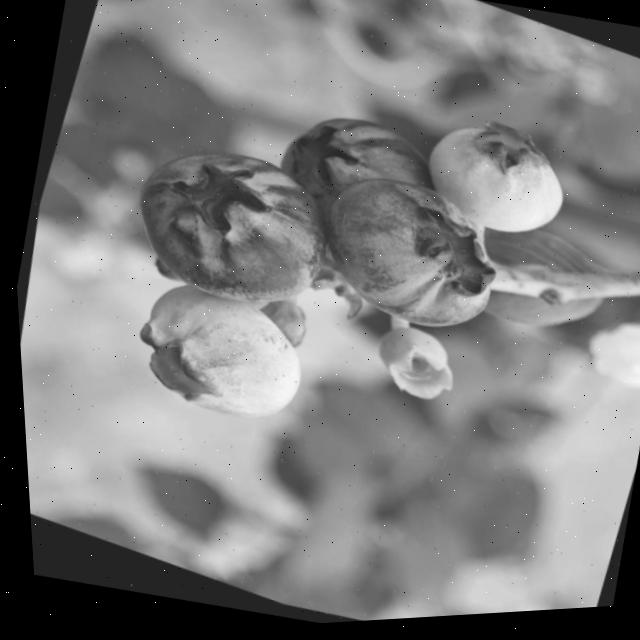Semi-RipeBlueBerry: (93, 111, 359, 347), (283, 152, 528, 369)
UnripeBlueBerry: (102, 268, 322, 456), (398, 97, 587, 268)
